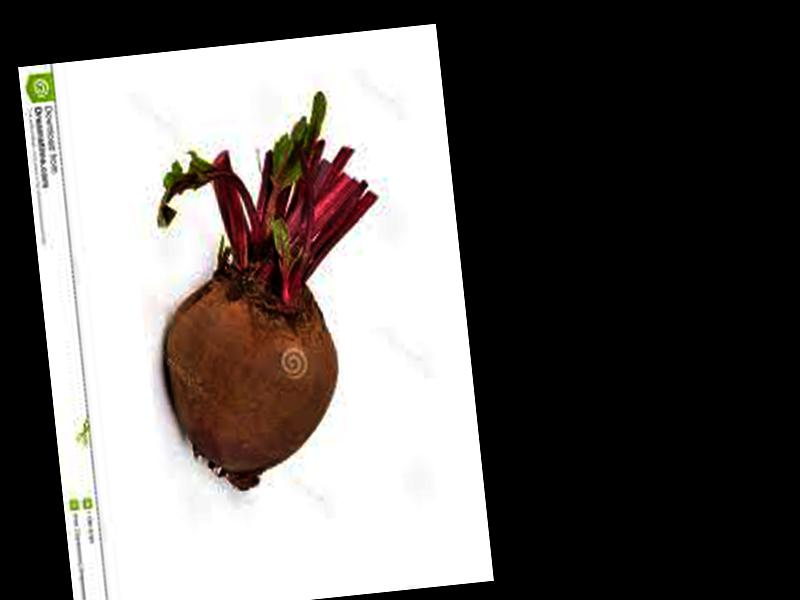Beet: (141, 89, 403, 497)
